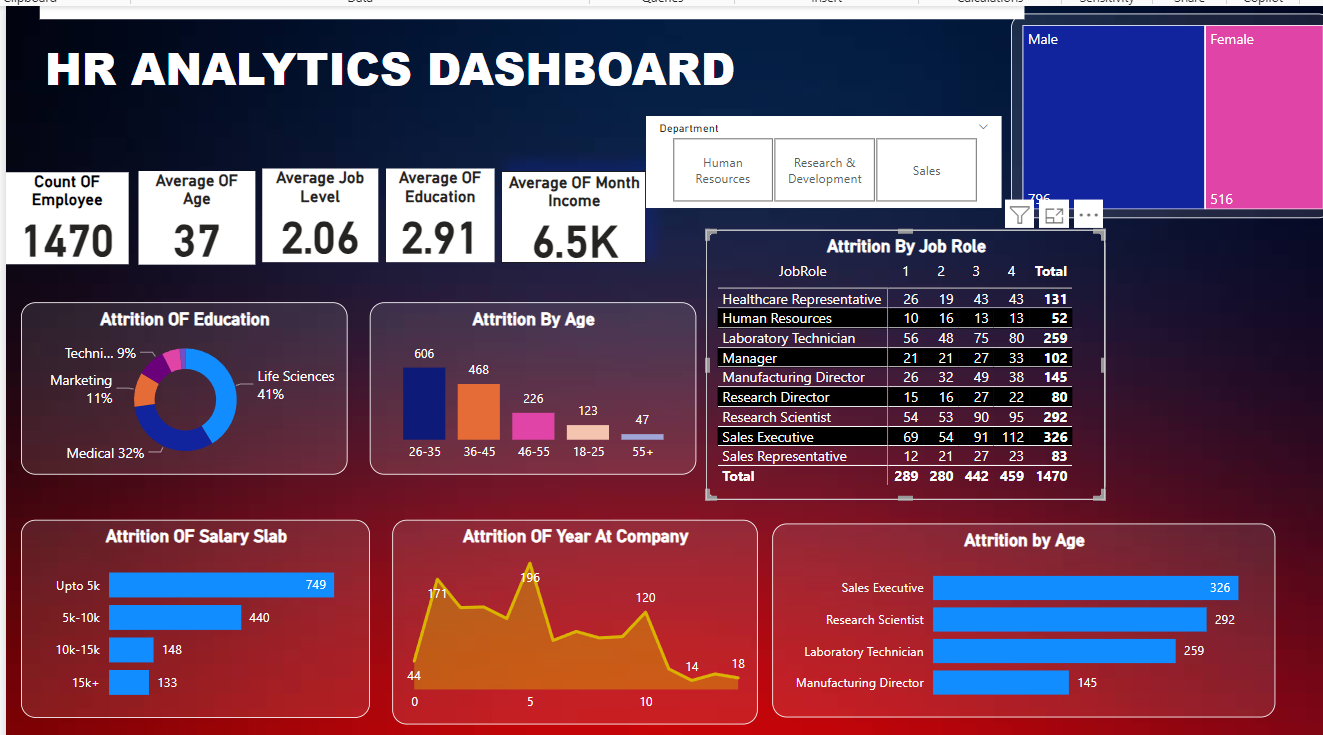

Layout of this report page (visuals, bound fields, positions):
{"tool":"powerbi","page":{"name":"Page 1","canvas":[1280,720],"ordinal":0},"visuals":[{"type":"qnaVisual","box":[32.7,0,950,12.7],"z":0},{"type":"card","title":"Count OF Employee","fields":{"Values":["CountNonNull(HR_Analytics.EmpID)"]},"box":[0,160,118.2,89.1],"z":1000},{"type":"card","box":[0,707.1,1061.4,12.9],"z":2000},{"type":"card","title":"Average OF Age ","fields":{"Values":["Avg(HR_Analytics.Age)"]},"box":[128.2,159.1,112.7,90],"z":3000},{"type":"card","title":"Average Job Level","fields":{"Values":["Avg(HR_Analytics.JobLevel)"]},"box":[247.3,157.3,111.8,90],"z":4000},{"type":"card","title":"Average OF Education","fields":{"Values":["Avg(HR_Analytics.Education)"]},"box":[366.4,157.3,104.5,90],"z":5000},{"type":"card","title":"Average OF Month Income","fields":{"Values":["Avg(HR_Analytics.MonthlyIncome)"]},"box":[477.3,159.1,140,89.1],"z":6000},{"type":"donutChart","title":"Attrition OF Education","fields":{"Y":["CountNonNull(HR_Analytics.Attrition)"],"Category":["HR_Analytics.EducationField"]},"box":[14.5,285.9,314.9,166.5],"z":7000},{"type":"columnChart","title":"Attrition By Age","fields":{"Category":["HR_Analytics.AgeGroup"],"Y":["CountNonNull(HR_Analytics.Attrition)"]},"box":[351.1,285.9,314.9,166.5],"z":8000},{"type":"pivotTable","title":"Attrition By Job Role","fields":{"Rows":["HR_Analytics.JobRole"],"Columns":["HR_Analytics.JobSatisfaction"],"Values":["CountNonNull(HR_Analytics.AttritionCount)"]},"box":[675.1,215.4,385.6,260.7],"z":9000},{"type":"barChart","title":"Attrition OF Salary Slab","fields":{"Category":["HR_Analytics.SalarySlab"],"Y":["CountNonNull(HR_Analytics.Attrition)"]},"box":[14.3,495.7,337.1,191.4],"z":10000},{"type":"barChart","title":"Attrition by Age","fields":{"Category":["HR_Analytics.JobRole"],"Y":["CountNonNull(HR_Analytics.Attrition)"]},"box":[740,500,485.7,187.1],"z":11000},{"type":"areaChart","title":"Attrition OF Year At Company","fields":{"Category":["HR_Analytics.YearsAtCompany"],"Y":["CountNonNull(HR_Analytics.Attrition)"]},"box":[373.2,495.4,352.7,197.6],"z":12000},{"type":"treemap","fields":{"Group":["HR_Analytics.Gender"],"Values":["CountNonNull(HR_Analytics.AttritionCount)"]},"box":[969.8,6.9,310.5,197.8],"z":13000},{"type":"slicer","fields":{"Values":["HR_Analytics.Department"]},"box":[617.5,105.7,343.1,89.2],"z":14000},{"type":"textbox","box":[32.9,24.3,732.9,92.9],"z":15000}]}

Visuals, with their boxes in screenshot pixels (x1, y1, x2, y2):
qnaVisual: crop(27, 0, 1017, 13)
"Count OF Employee" card: crop(0, 167, 116, 260)
"Average OF Age " card: crop(127, 166, 244, 260)
"Average Job Level" card: crop(251, 164, 367, 258)
"Average OF Education" card: crop(375, 164, 484, 258)
"Average OF Month Income" card: crop(490, 166, 636, 259)
"Attrition OF Education" donutChart: crop(8, 298, 336, 471)
"Attrition By Age" columnChart: crop(359, 298, 687, 471)
"Attrition By Job Role" pivotTable: crop(697, 224, 1098, 496)
"Attrition OF Salary Slab" barChart: crop(8, 517, 359, 716)
"Attrition by Age" barChart: crop(764, 521, 1270, 716)
"Attrition OF Year At Company" areaChart: crop(382, 516, 750, 722)
treemap - HR_Analytics.Gender x CountNonNull(HR_Analytics.AttritionCount): crop(1004, 7, 1322, 213)
slicer - HR_Analytics.Department: crop(637, 110, 994, 203)
textbox: crop(27, 25, 791, 122)
